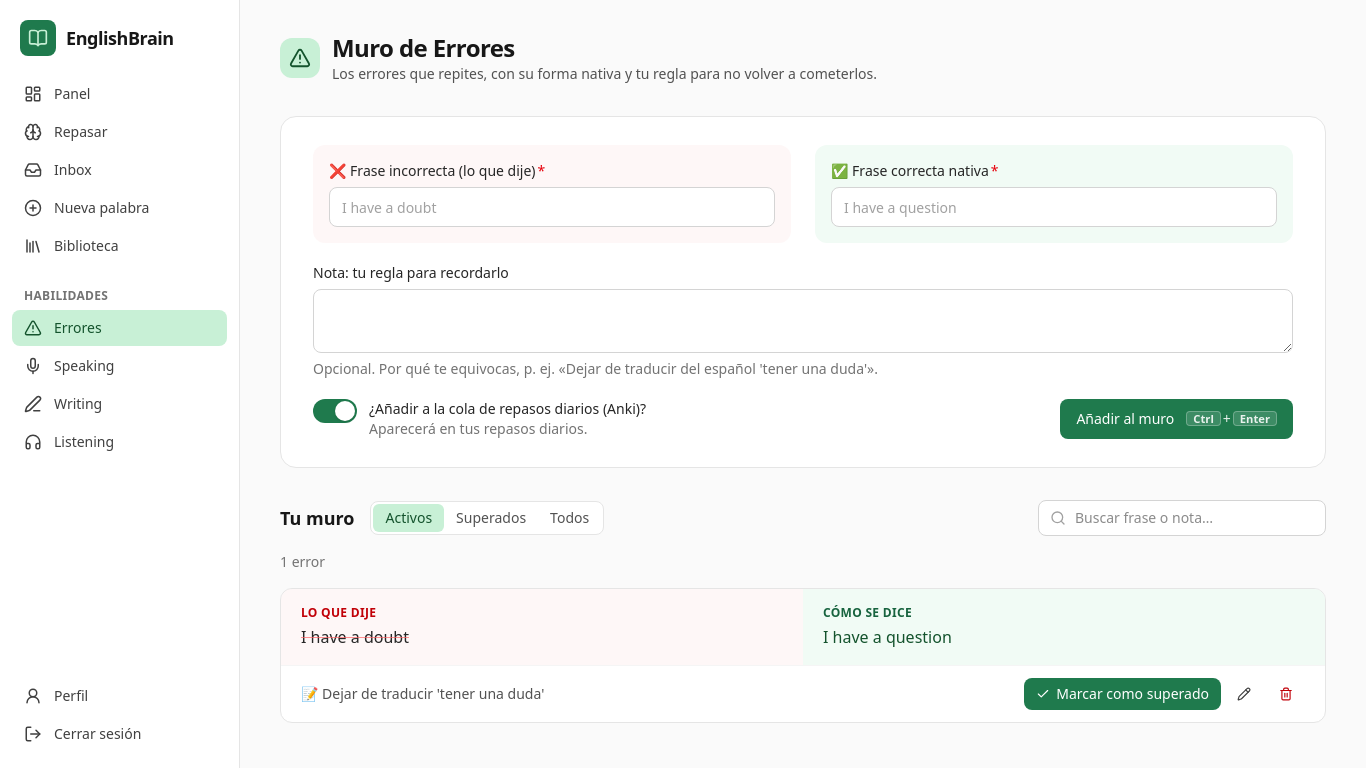
it: 12.1 · Muro de Errores: registro › un error del Backend se muestra bajo su campo
The image size is (1366, 768).
Type "a" into the field labelled "❌ Frase incorrecta (lo que dije)*". click: (552, 207)
box: 329,187 -> 775,227
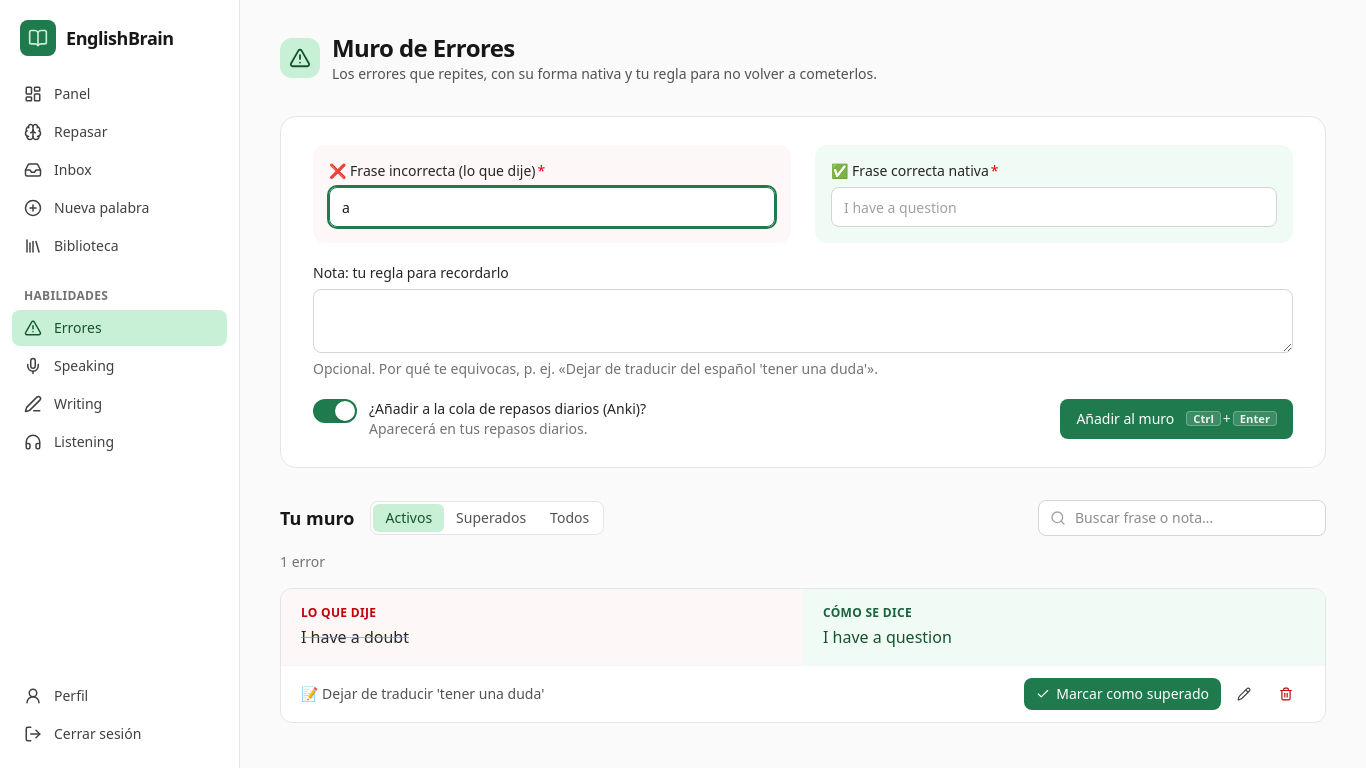
Type "b" into the field labelled "✅ Frase correcta nativa*". click: (1054, 207)
box: 831,187 -> 1277,227
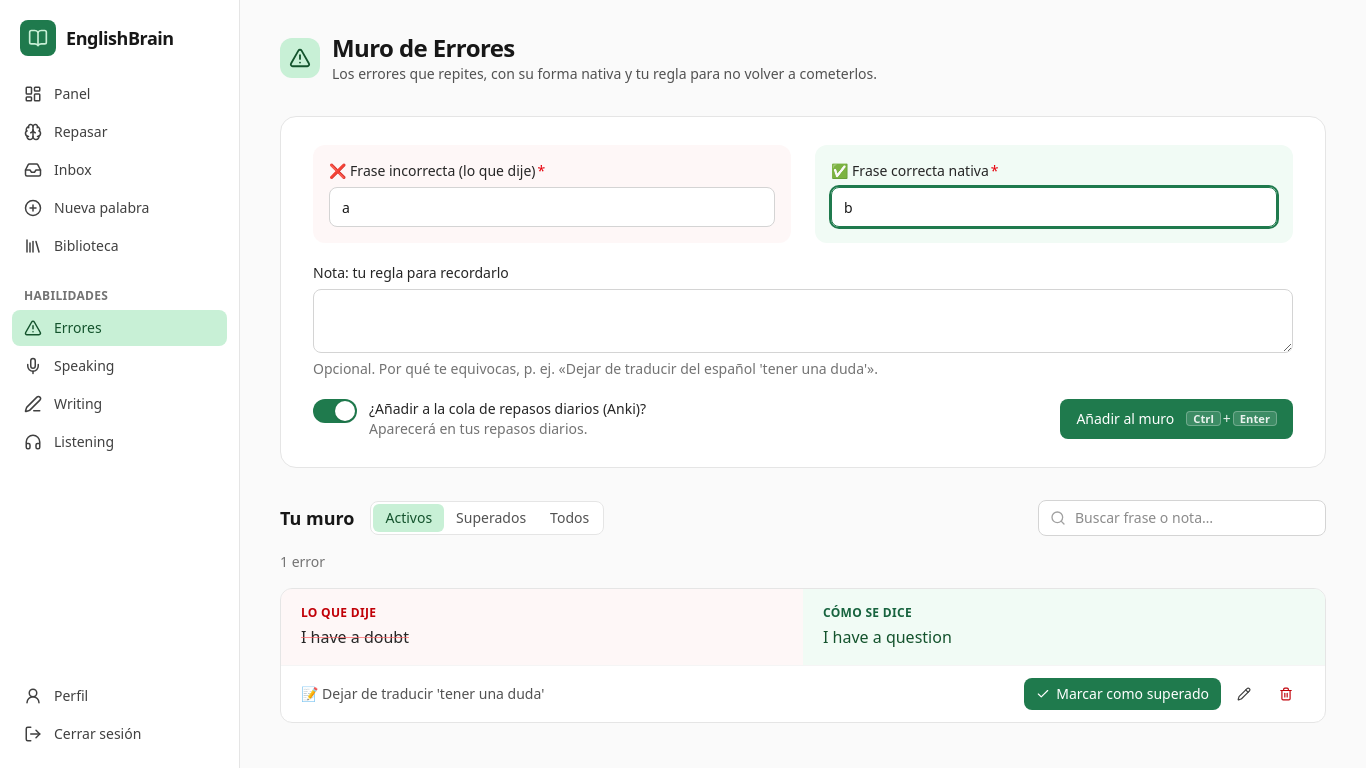
Click the button "Añadir al muro Ctrl + Enter". click: (1177, 418)
box: 1060,398 -> 1293,438
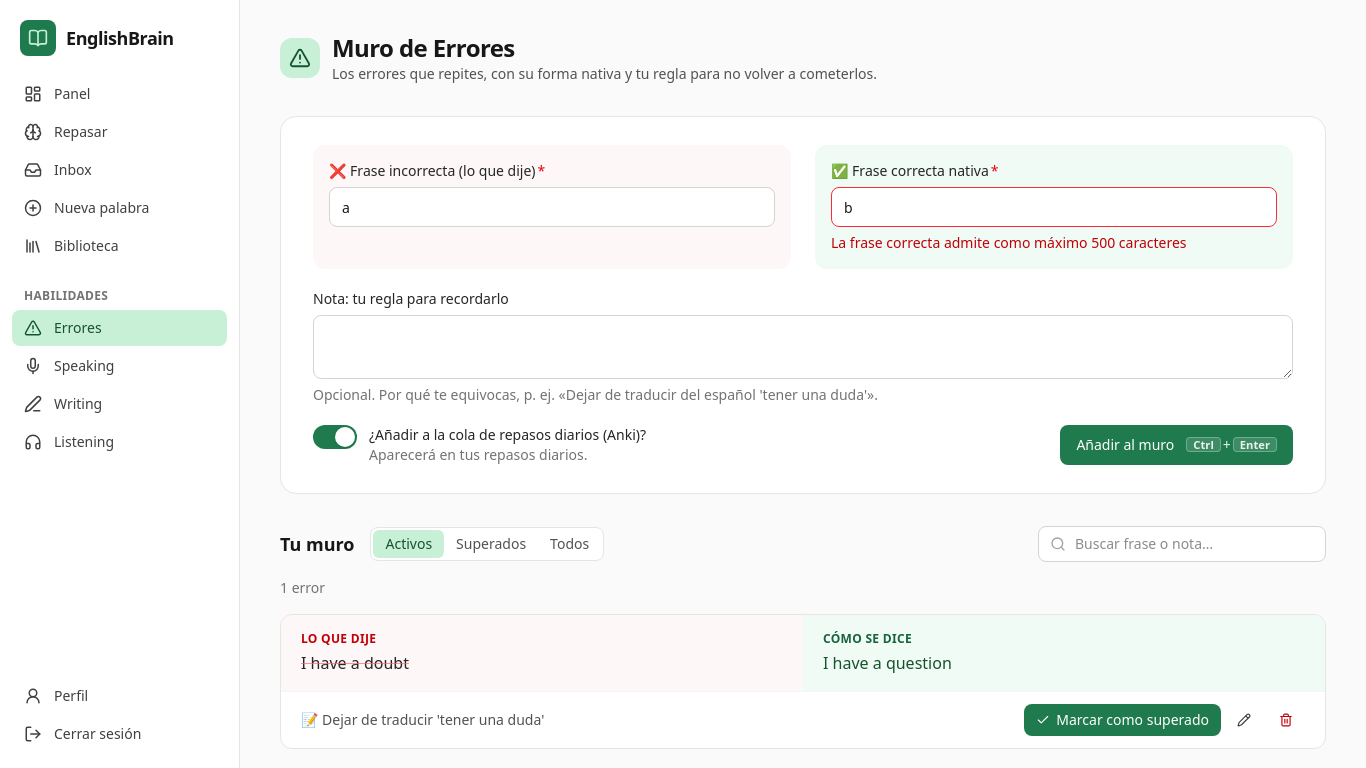
Expected: the text "La frase correcta admite como máximo 500 caracteres" is shown, 831,233 -> 1187,252
